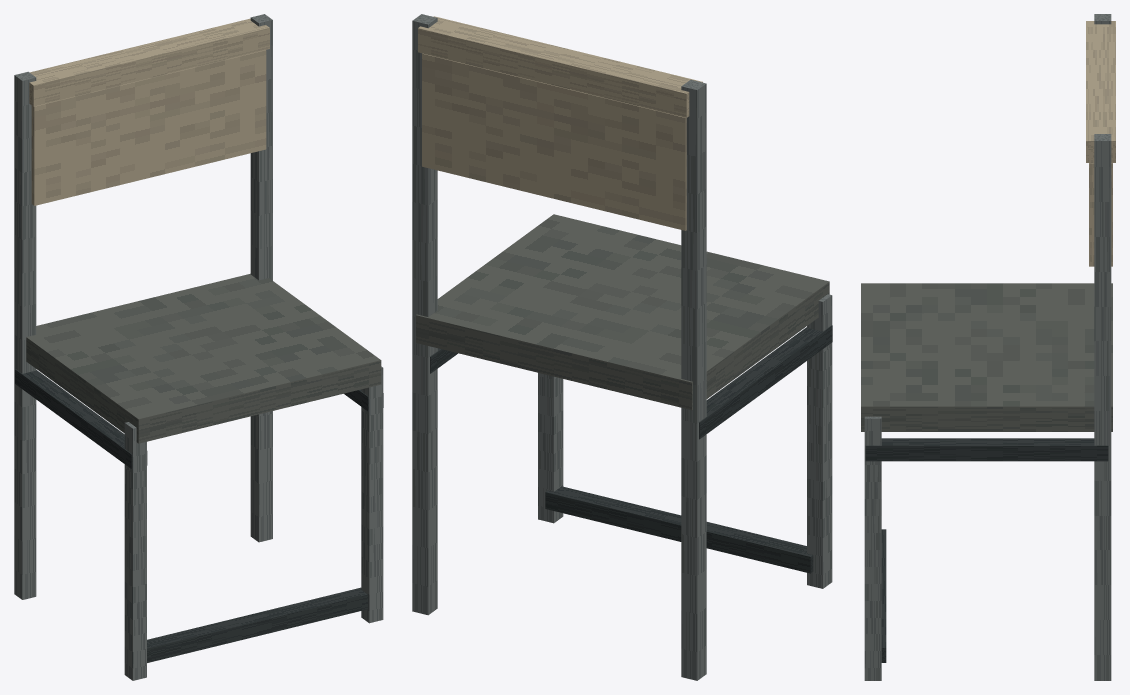
Rendered from silla_plegable.glb.
3 renders of one model, left to right at view 1: azimuth 30°, elevation 25°; view 2: azimuth 150°, elevation 25°; view 3: azimuth 270°, elevation 25°, orthographic. The views are drawn at different scales.
Visible parts, largest first — view 1: silla_plegable; view 2: silla_plegable; view 3: silla_plegable.
Boxes of the visible parts, x1,y1,x2,y2 form: silla_plegable: [14, 14, 383, 680]; silla_plegable: [412, 14, 832, 680]; silla_plegable: [861, 14, 1115, 680].
Bounding box in the file's own units: 0.4938 × 0.9723 × 0.4161.
Materials: 1 (1 with a texture image).
